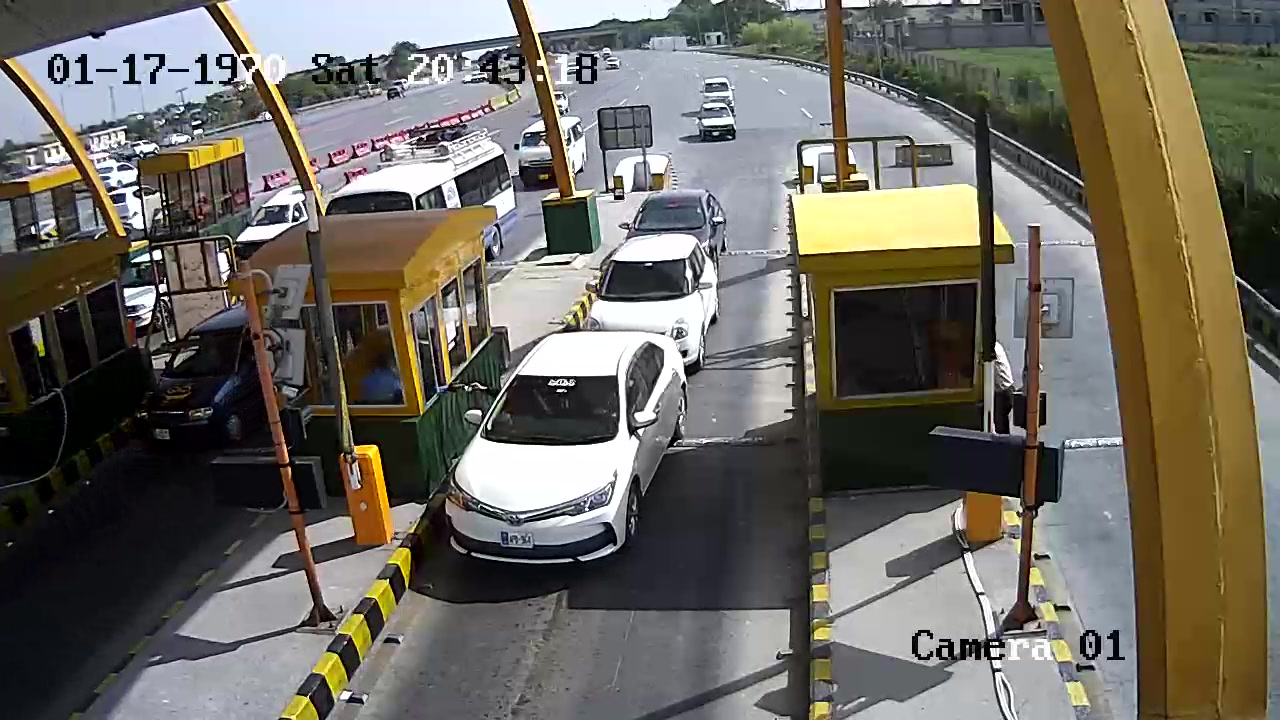F1: (569, 231, 721, 368)
